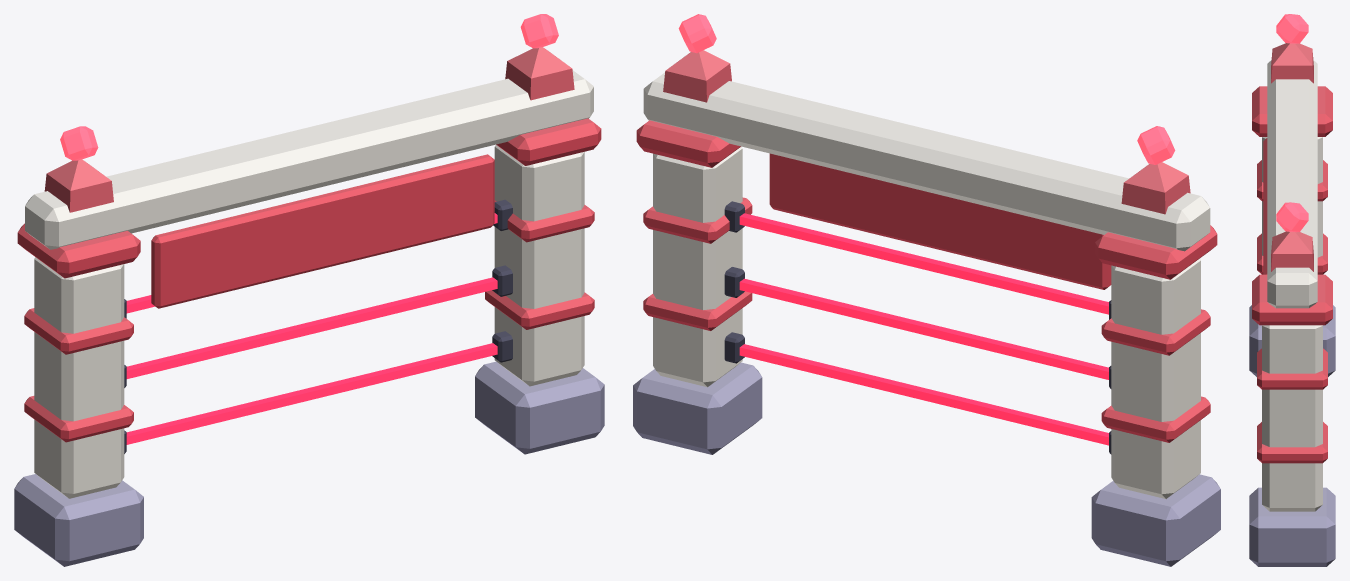
The model's file is Gate_0.glb.
3 views of the same model, side by side, from view 1: azimuth 30°, elevation 25°; view 2: azimuth 150°, elevation 25°; view 3: azimuth 270°, elevation 25° (orthographic). The views are drawn at different scales.
Visible parts, largest first — view 1: Gate_0, Gate_0_Glow_laser, Gate_0_Glow_acc0; view 2: Gate_0, Gate_0_Glow_laser, Gate_0_Glow_acc0; view 3: Gate_0, Gate_0_Glow_acc0.
Boxes of the visible parts, bbox=[...] form: Gate_0: bbox=[14, 47, 604, 566]; Gate_0_Glow_laser: bbox=[126, 213, 497, 444]; Gate_0_Glow_acc0: bbox=[60, 14, 558, 160]; Gate_0: bbox=[633, 50, 1220, 566]; Gate_0_Glow_laser: bbox=[739, 213, 1108, 445]; Gate_0_Glow_acc0: bbox=[678, 14, 1175, 164]; Gate_0: bbox=[1249, 43, 1335, 566]; Gate_0_Glow_acc0: bbox=[1276, 14, 1308, 232].
Size of the model in its own units: 21 by 15.25 by 3.4.
3 materials, 1 textured.
